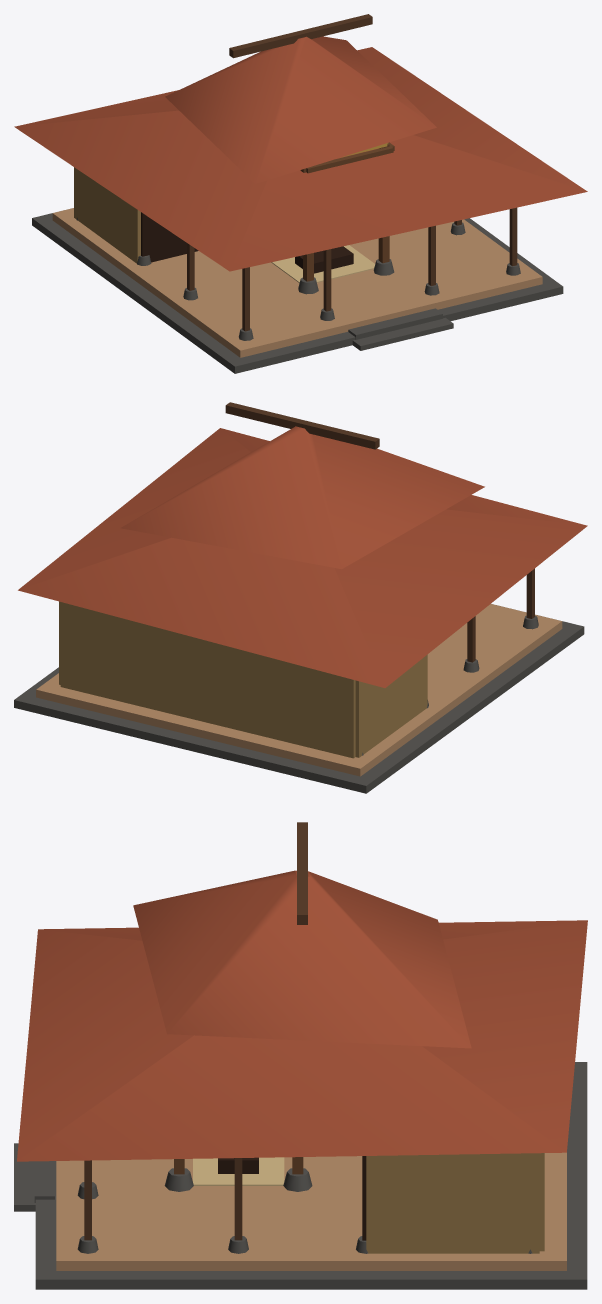
File: rumah-osing.glb
3 renders of one model, top to bottom at view 1: azimuth 30°, elevation 25°; view 2: azimuth 150°, elevation 25°; view 3: azimuth 270°, elevation 25°, orthographic. The views are drawn at different scales.
Visible parts, largest first — view 1: ROOF_PENANGGAP, FLOOR_SYSTEM, ROOF_BRUNJUNG, WALL_SYSTEM, SOKO_GURU, UMPAK, PENDOPO_TIKAR, TUMPANG_SARI, PENDOPO_LOW_TABLE; view 2: ROOF_PENANGGAP, ROOF_BRUNJUNG, WALL_SYSTEM, FLOOR_SYSTEM, SOKO_GURU; view 3: ROOF_PENANGGAP, FLOOR_SYSTEM, ROOF_BRUNJUNG, WALL_SYSTEM, UMPAK, PENDOPO_TIKAR, SOKO_GURU.
Boxes of the visible parts, x1,y1,x2,y2 form: ROOF_PENANGGAP: [14, 47, 587, 271]; FLOOR_SYSTEM: [32, 208, 563, 373]; ROOF_BRUNJUNG: [165, 14, 436, 183]; WALL_SYSTEM: [74, 167, 198, 263]; SOKO_GURU: [187, 143, 517, 331]; UMPAK: [76, 217, 520, 340]; PENDOPO_TIKAR: [271, 245, 375, 282]; TUMPANG_SARI: [300, 142, 394, 173]; PENDOPO_LOW_TABLE: [295, 246, 353, 273]; ROOF_PENANGGAP: [18, 428, 587, 687]; ROOF_BRUNJUNG: [120, 402, 484, 569]; WALL_SYSTEM: [59, 601, 427, 758]; FLOOR_SYSTEM: [14, 604, 584, 793]; SOKO_GURU: [467, 568, 534, 662]; ROOF_PENANGGAP: [17, 920, 587, 1161]; FLOOR_SYSTEM: [14, 1062, 587, 1289]; ROOF_BRUNJUNG: [133, 822, 471, 1048]; WALL_SYSTEM: [362, 1153, 544, 1253]; UMPAK: [77, 1168, 532, 1253]; PENDOPO_TIKAR: [193, 1157, 284, 1185]; SOKO_GURU: [84, 1157, 303, 1240].
Size of what is drawn, in the model's own units: 12.52 by 7.55 by 12.59.
